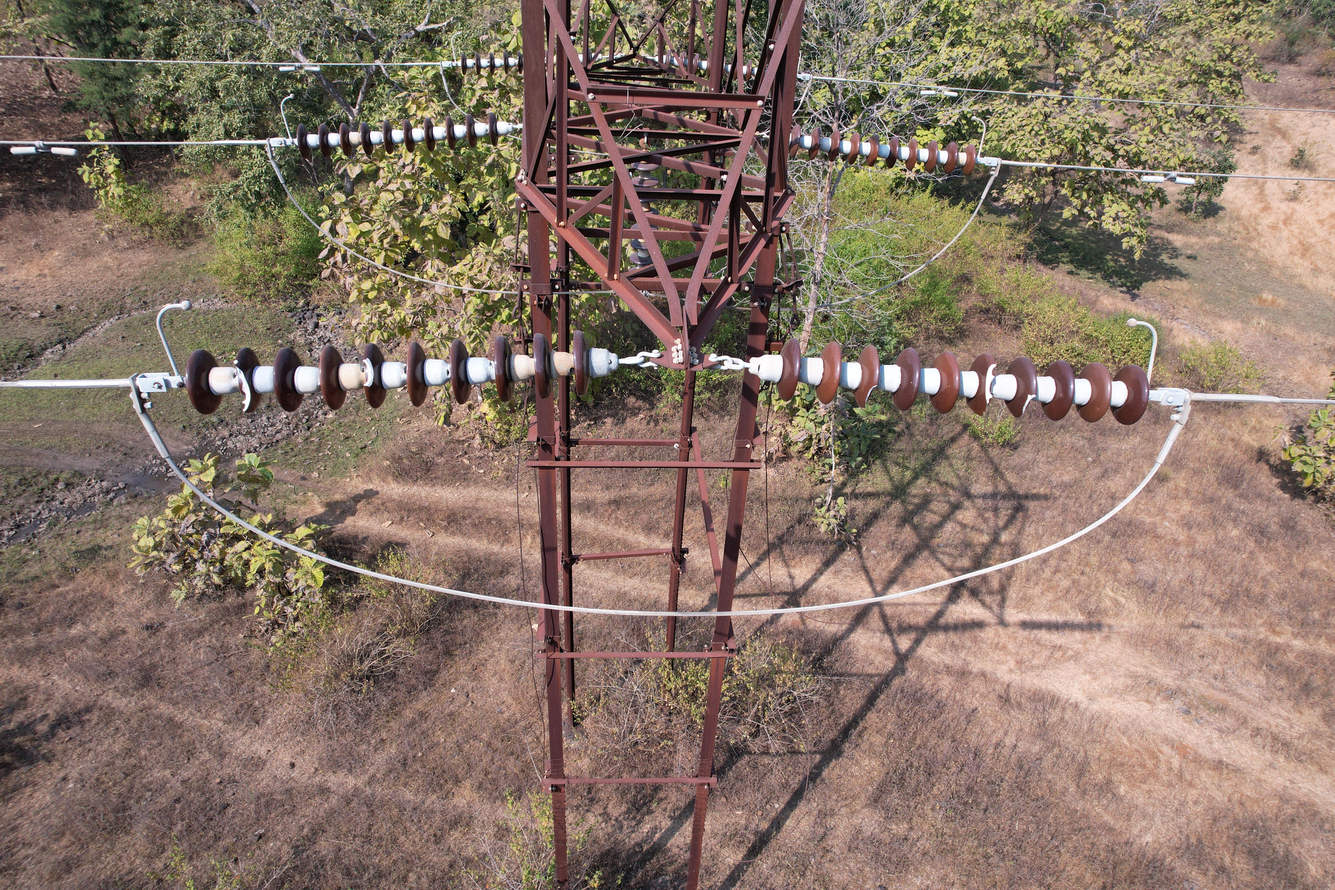broken_insulator: (225, 342, 270, 422), (354, 338, 397, 413), (1006, 347, 1043, 419), (967, 346, 997, 421), (853, 339, 879, 409)
